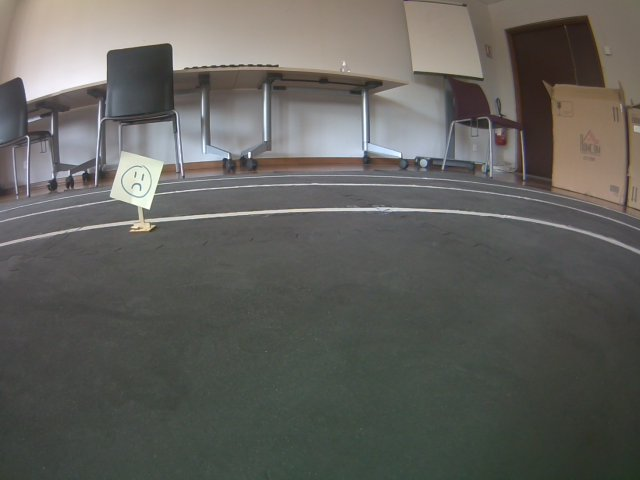Smiley: (108, 150, 165, 211)
